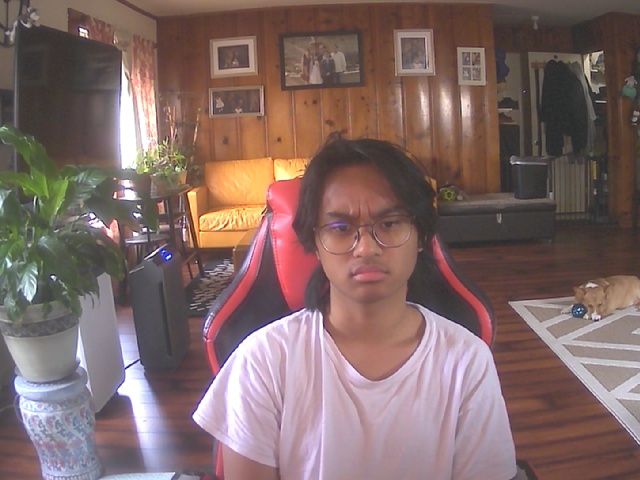anger: (314, 151, 430, 306)
